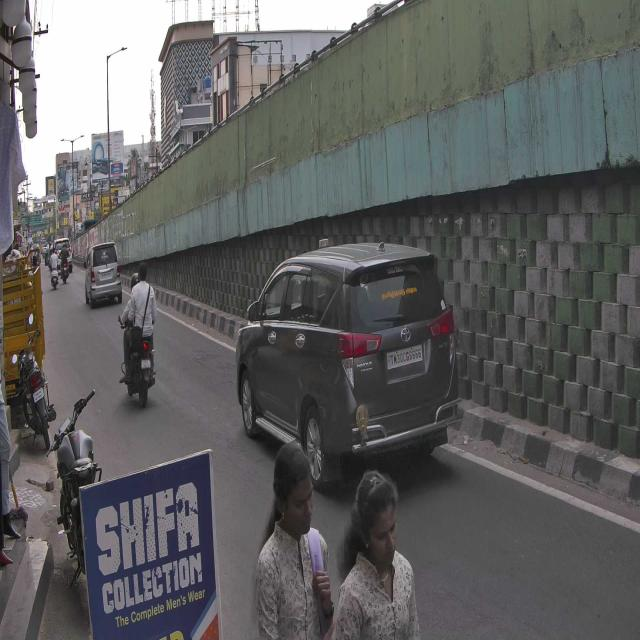double_rider: (117, 260, 159, 407)
